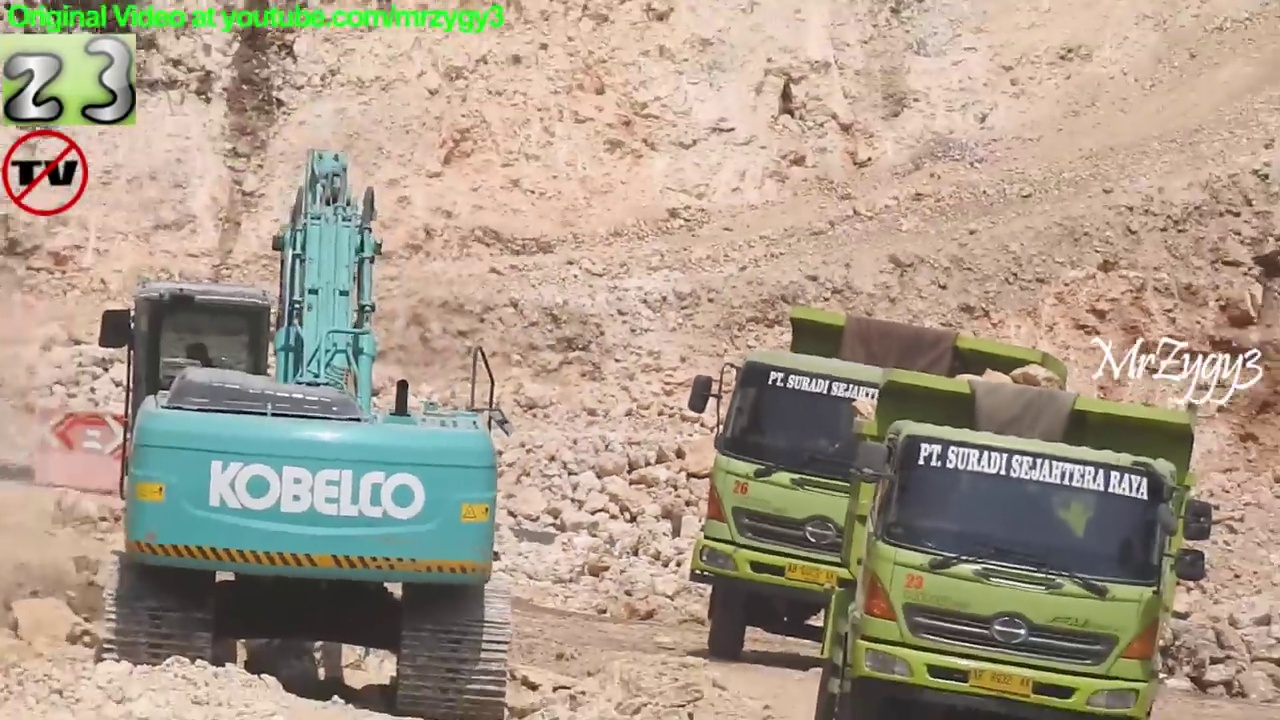excavator: (86, 145, 527, 720)
truck: (685, 302, 1084, 675), (809, 365, 1219, 720)
